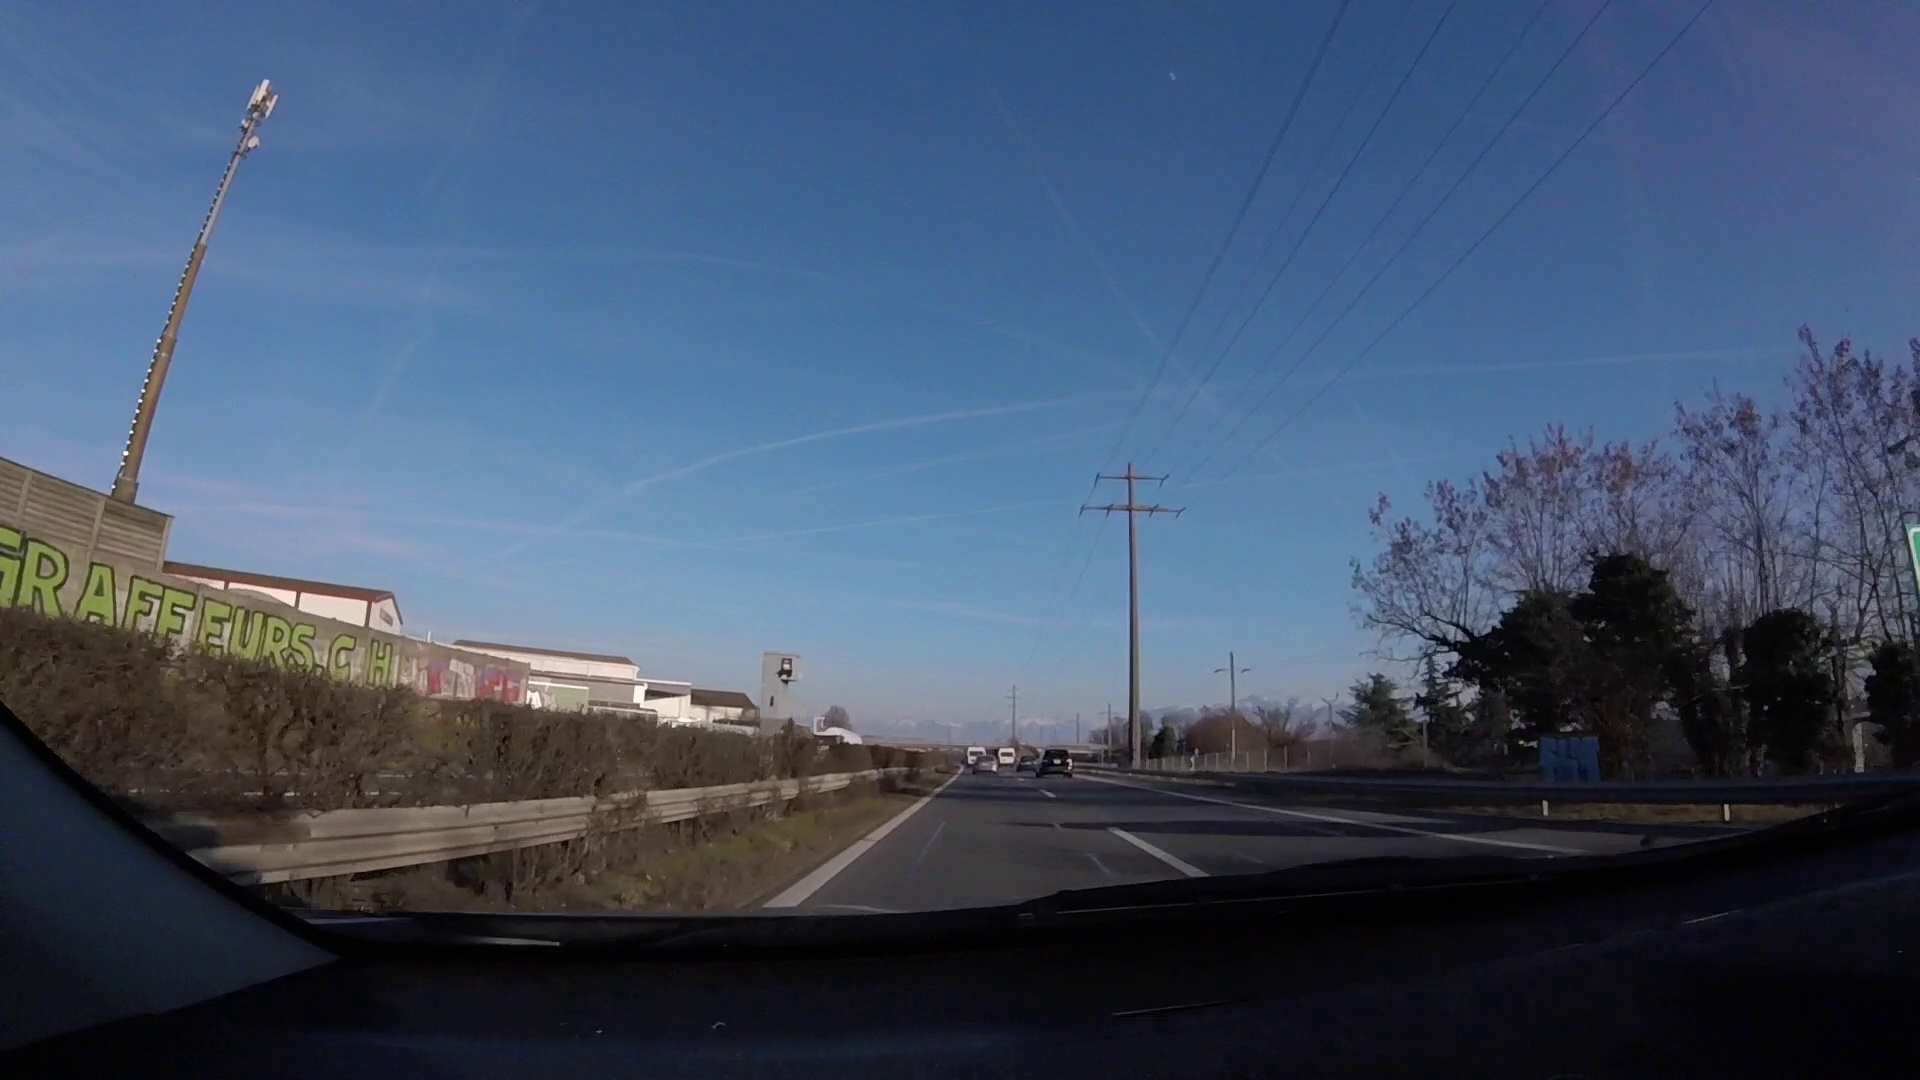radar: (756, 649, 803, 741)
